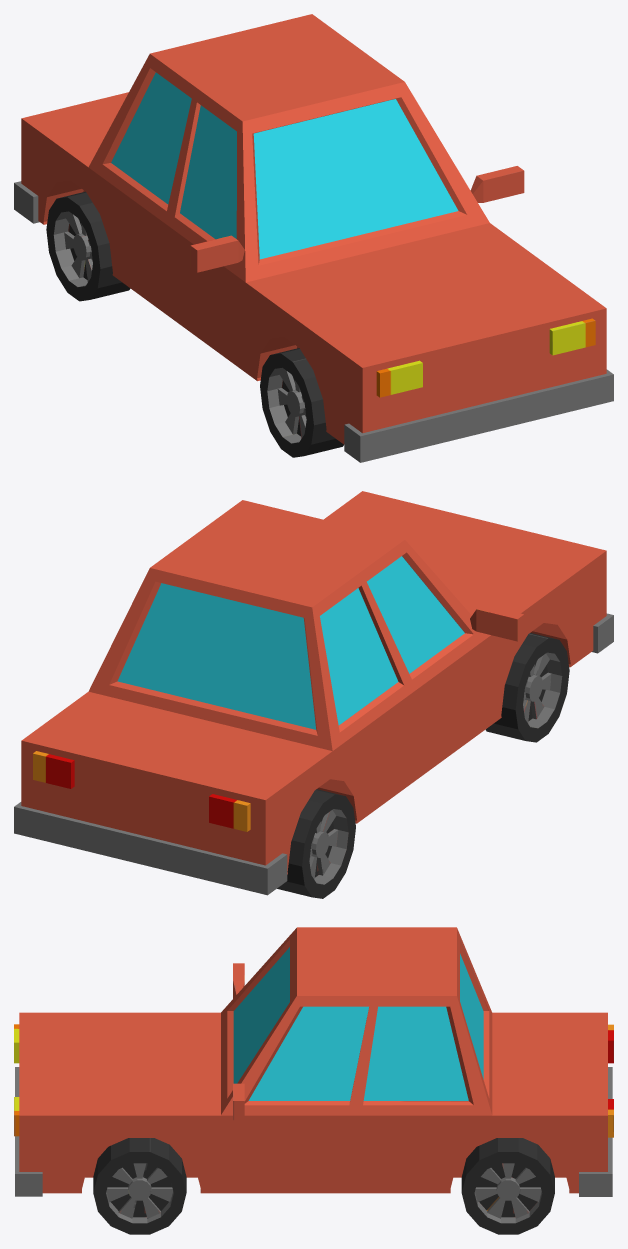
The model's file is car.glb.
The picture shows the model from 3 angles, top to bottom: view 1: azimuth 30°, elevation 25°; view 2: azimuth 150°, elevation 25°; view 3: azimuth 270°, elevation 25°; orthographic projection. The views are drawn at different scales.
Parts seen in each view (by area): view 1: Cube; view 2: Cube; view 3: Cube.
Boxes of the visible parts, bbox=[...] form: Cube: bbox=[14, 14, 613, 462]; Cube: bbox=[14, 491, 613, 898]; Cube: bbox=[14, 927, 613, 1234].
Size of the model in its own units: 268 by 199 by 493.
Materials: 1 (1 with a texture image).
